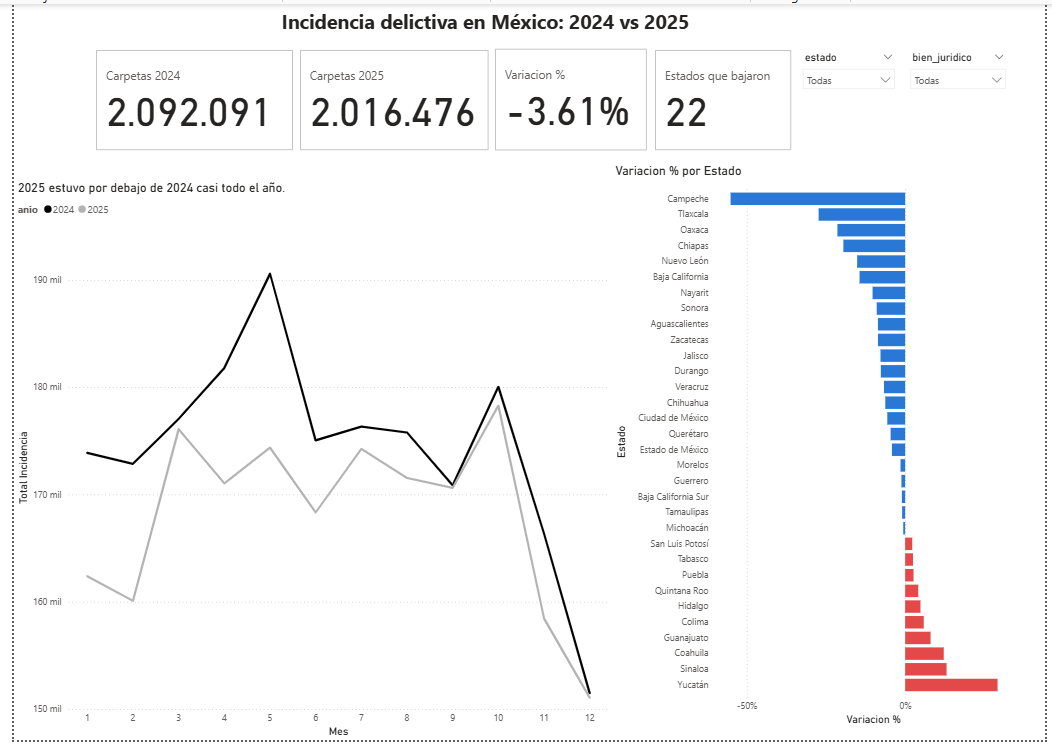

The dashboard page shown, as its layout file describes it:
{"tool":"powerbi","page":{"name":"Resumen","canvas":[1400,1000],"ordinal":0},"visuals":[{"type":"cardVisual","fields":{"Data":["fact_incidencia_mensual.Texto 2024"]},"box":[107,57.2,277.4,146.8],"z":0},{"type":"cardVisual","fields":{"Data":["fact_incidencia_mensual.Texto 2025"]},"box":[384.3,57.2,266.2,146.8],"z":1000},{"type":"cardVisual","fields":{"Data":["fact_incidencia_mensual.Variacion %"]},"box":[649.3,56,216.4,148],"z":2000},{"type":"cardVisual","fields":{"Data":["fact_incidencia_mensual.Estados que bajaron"]},"box":[866.9,57.2,195.3,146.8],"z":3000},{"type":"lineChart","title":"2025 estuvo por debajo de 2024 casi todo el año.","fields":{"Category":["fact_incidencia_mensual.mes_num"],"Y":["fact_incidencia_mensual.Total Incidencia"],"Series":["fact_incidencia_mensual.anio"]},"box":[0,238.8,812.2,761.2],"z":4000},{"type":"clusteredBarChart","fields":{"Category":["dim_estado.estado"],"Y":["fact_incidencia_mensual.Variacion %"]},"box":[812.2,215.2,588.3,768.7],"z":5000},{"type":"slicer","fields":{"Values":["dim_estado.estado"]},"box":[1062.1,59,145,83.7],"z":6000},{"type":"slicer","fields":{"Values":["dim_delito.bien_juridico"]},"box":[1207.1,60,149.9,82.7],"z":7000},{"type":"textbox","box":[358.4,0,584.2,59.4],"z":8000}]}

Visuals, with their boxes in screenshot pixels (x1, y1, x2, y2), scaled from the page's 1400x1000 canvas onto the 1052x747 screenshot:
cardVisual - fact_incidencia_mensual.Texto 2024: x1=80, y1=43, x2=289, y2=152
cardVisual - fact_incidencia_mensual.Texto 2025: x1=289, y1=43, x2=489, y2=152
cardVisual - fact_incidencia_mensual.Variacion %: x1=488, y1=42, x2=651, y2=152
cardVisual - fact_incidencia_mensual.Estados que bajaron: x1=651, y1=43, x2=798, y2=152
"2025 estuvo por debajo de 2024 casi todo el año." lineChart: x1=0, y1=178, x2=610, y2=746
clusteredBarChart - dim_estado.estado x fact_incidencia_mensual.Variacion %: x1=610, y1=161, x2=1051, y2=735
slicer - dim_estado.estado: x1=798, y1=44, x2=907, y2=107
slicer - dim_delito.bien_juridico: x1=907, y1=45, x2=1020, y2=107
textbox: x1=269, y1=0, x2=708, y2=44
